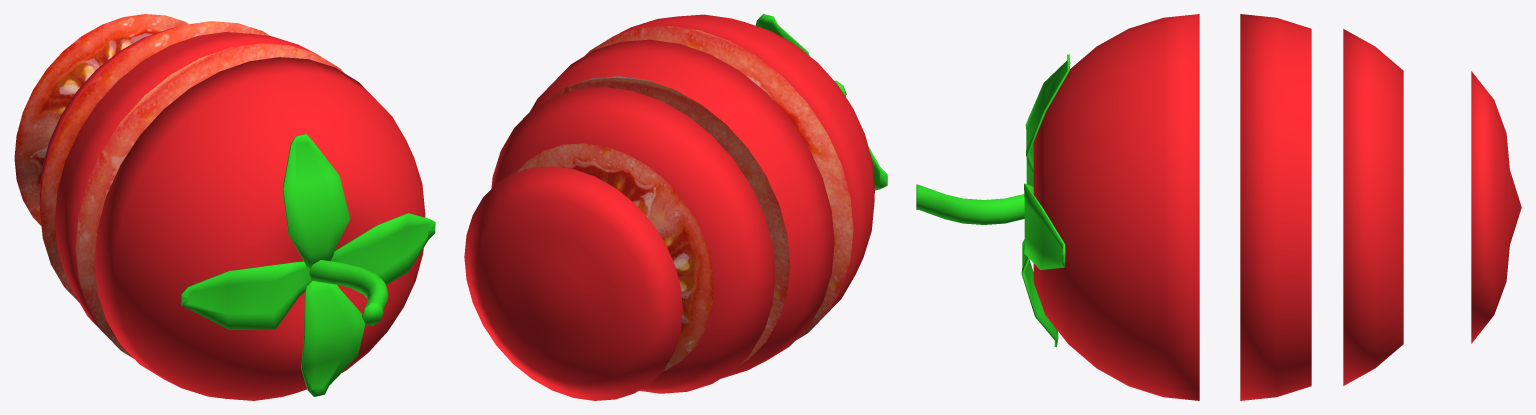
Rendered from tomat 3.fbx.
3 views of the same model, side by side, from view 1: azimuth 30°, elevation 25°; view 2: azimuth 150°, elevation 25°; view 3: azimuth 270°, elevation 25° (orthographic). The views are drawn at different scales.
Visible parts, largest first — view 1: tomat 3, potongan 003, potongan 3, potongan 03; view 2: potongan 3, potongan 03, potongan 003, tomat 3; view 3: tomat 3, potongan 003, potongan 03, potongan 3.
Part boxes in pixels (x1,y1,x2,y2): tomat 3: (94, 57, 435, 400); potongan 003: (54, 32, 343, 358); potongan 3: (14, 14, 188, 225); potongan 03: (39, 21, 269, 302); potongan 3: (464, 166, 682, 400); potongan 03: (491, 87, 775, 393); potongan 003: (530, 39, 834, 378); tomat 3: (585, 14, 887, 340); tomat 3: (916, 14, 1199, 400); potongan 003: (1240, 14, 1311, 400); potongan 03: (1343, 29, 1403, 385); potongan 3: (1471, 71, 1521, 343).
Size of the model in its own units: 99.6 by 99.6 by 156.
3 materials, 1 textured.
